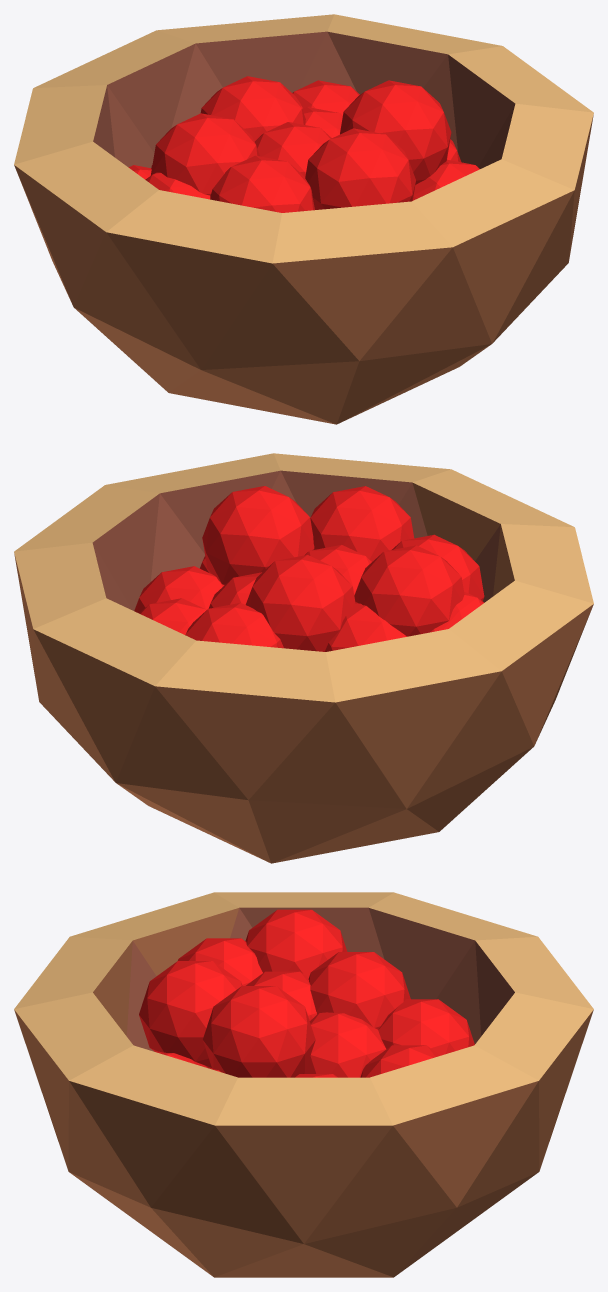
The model's file is Berries-Visual.fbx.
3 renders of one model, top to bottom at view 1: azimuth 30°, elevation 25°; view 2: azimuth 150°, elevation 25°; view 3: azimuth 270°, elevation 25°, orthographic. The views are drawn at different scales.
Parts seen in each view (by area): view 1: Bowl, Berries; view 2: Bowl, Berries; view 3: Bowl, Berries.
Part boxes in pixels (left/top/right/bottom): Bowl: left=14, top=14, right=593, bottom=424; Berries: left=128, top=76, right=479, bottom=212; Bowl: left=14, top=453, right=593, bottom=863; Berries: left=134, top=486, right=484, bottom=651; Bowl: left=14, top=892, right=593, bottom=1277; Berries: left=139, top=909, right=474, bottom=1077.
Bounding box in the file's own units: 1.71 × 1.05 × 1.79.
